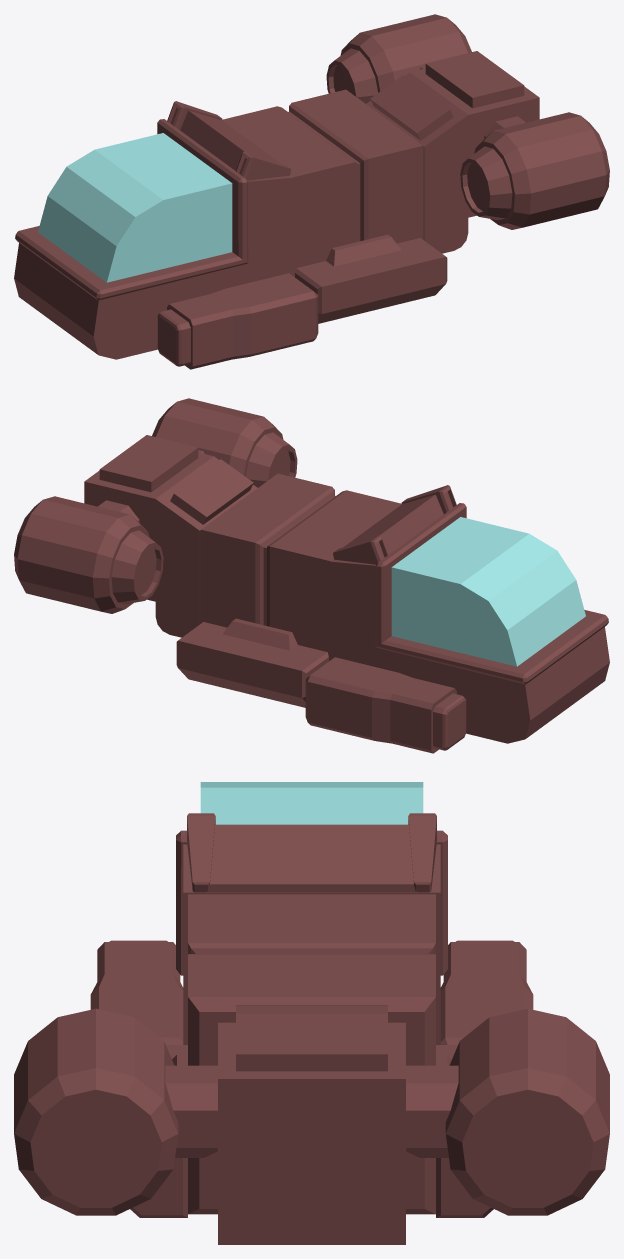
File: ship.fbx
3 views of the same model, one above another, from view 1: azimuth 30°, elevation 25°; view 2: azimuth 150°, elevation 25°; view 3: azimuth 270°, elevation 25° (orthographic). The views are drawn at different scales.
Parts seen in each view (by area): view 1: pCube9; view 2: pCube9; view 3: pCube9.
Part boxes in pixels (x1,y1,x2,y2): pCube9: [14, 14, 609, 369]; pCube9: [14, 398, 609, 753]; pCube9: [14, 782, 609, 1244].
Size of the model in its own units: 10.56 by 3.7 by 7.2.
